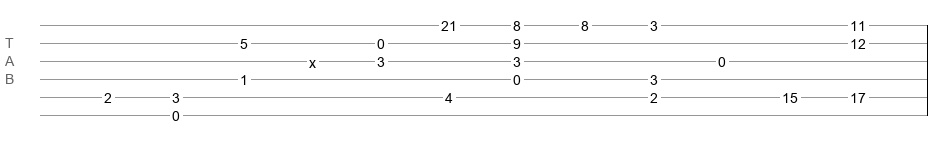0: (172, 108, 180, 118), (377, 36, 385, 46), (513, 72, 521, 82), (718, 54, 726, 64)
1: (240, 72, 248, 82)
11: (850, 18, 866, 28)
12: (850, 36, 866, 46)
15: (782, 90, 798, 100)
17: (850, 90, 866, 100)
2: (104, 90, 112, 100), (650, 90, 658, 100)
21: (441, 18, 457, 28)
3: (172, 90, 180, 100), (377, 54, 385, 64), (513, 54, 521, 64), (650, 72, 658, 82), (650, 18, 658, 28)
4: (445, 90, 453, 100)
5: (240, 36, 248, 46)
8: (513, 18, 521, 28), (581, 18, 589, 28)
9: (513, 36, 521, 46)
x: (309, 55, 316, 63)
